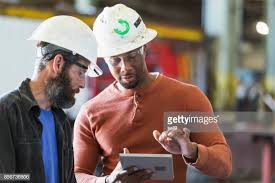Person_wearing_helmet: (85, 1, 162, 56), (27, 14, 100, 72)
